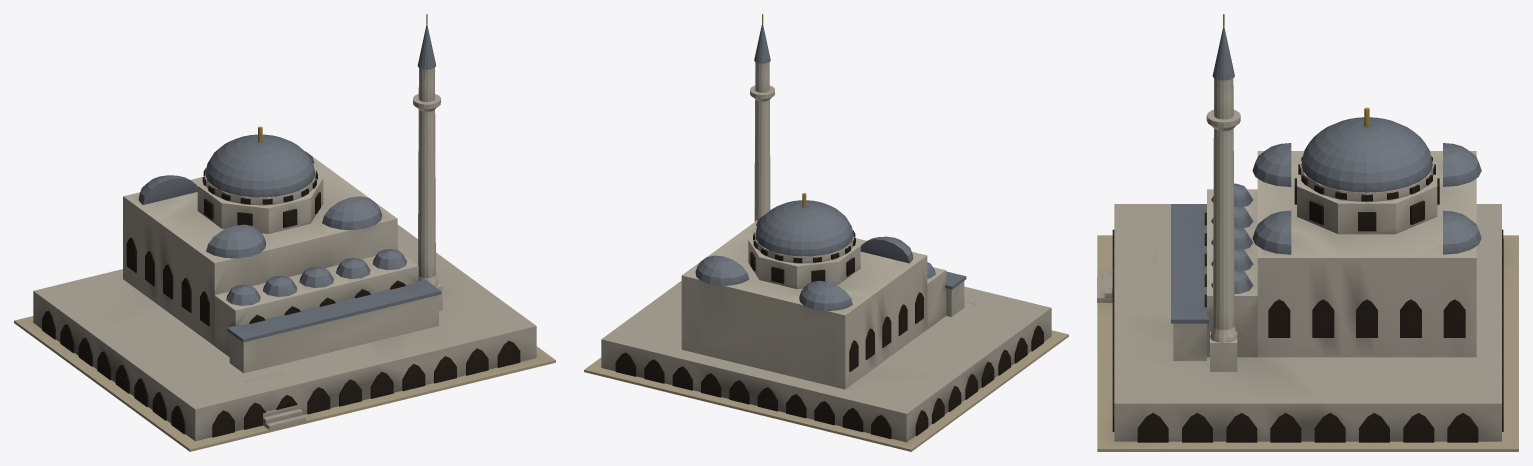
File: rustem-pasha.glb
3 renders of one model, left to right at view 1: azimuth 30°, elevation 25°; view 2: azimuth 150°, elevation 25°; view 3: azimuth 270°, elevation 25°, orthographic. The views are drawn at different scales.
Parts seen in each view (by area): view 1: p0_platform, p1_mosque, p2_dome, p3_minaret; view 2: p0_platform, p1_mosque, p2_dome, p3_minaret; view 3: p0_platform, p1_mosque, p2_dome, p3_minaret.
Boxes of the visible parts, x1,y1,x2,y2 form: p0_platform: [14, 224, 555, 451]; p1_mosque: [123, 156, 441, 373]; p2_dome: [138, 126, 381, 258]; p3_minaret: [413, 14, 442, 310]; p0_platform: [584, 281, 1068, 451]; p1_mosque: [681, 220, 966, 389]; p2_dome: [695, 193, 913, 310]; p3_minaret: [750, 14, 774, 221]; p0_platform: [1097, 204, 1518, 451]; p1_mosque: [1171, 151, 1476, 360]; p2_dome: [1252, 107, 1481, 254]; p3_minaret: [1206, 14, 1240, 371].
Bounding box in the file's own units: 60 × 51.46 × 50.02.
